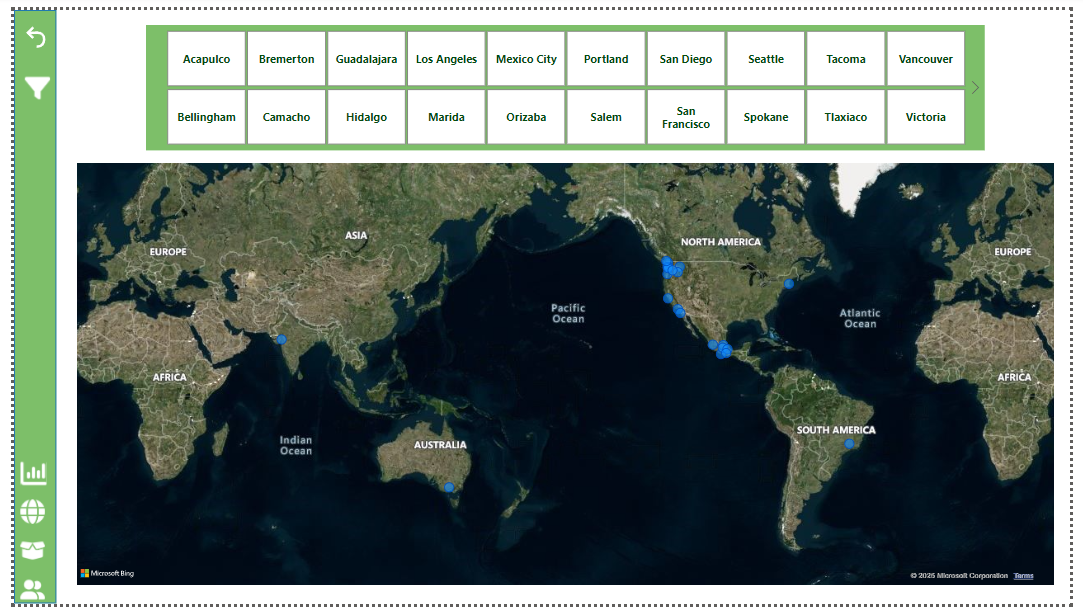

The dashboard page shown, as its layout file describes it:
{"tool":"powerbi","page":{"name":"Map","canvas":[1280,720],"ordinal":1},"visuals":[{"type":"slicer","fields":{"Values":["Regions Lookup.sales_district"]},"box":[159.3,18.5,1016.7,151.9],"z":0},{"type":"actionButton","box":[3.3,541.7,48.3,40],"z":0,"group":"g1"},{"type":"map","fields":{"Category":["Regions Lookup.sales_district"]},"box":[70.4,179.6,1194.4,522.2],"z":1000},{"type":"actionButton","box":[4.1,589.1,45.6,37.8],"z":1000,"group":"g1"},{"type":"shape","box":[0,0,51.3,719.2],"z":2000},{"type":"actionButton","box":[4.1,636.9,45.6,37.8],"z":2000,"group":"g1"},{"type":"group","id":"g1","title":"Navigation Buttons","box":[3.3,541.7,48.3,178.3],"z":3000},{"type":"actionButton","box":[4.1,683.6,45.6,37.8],"z":3000,"group":"g1"},{"type":"actionButton","box":[9.3,74.1,38.9,40.7],"z":4000},{"type":"actionButton","box":[9.3,14.8,35.2,37],"z":5000}]}

Visuals, with their boxes on the page's 1280x720 design canvas (x1, y1, x2, y2). These are canvas units, not pixel positions in the 1083x611 screenshot, which may show the page scaled, cropped or inside an application window:
slicer - Regions Lookup.sales_district: (159,18,1176,170)
actionButton: (3,542,52,582)
map - Regions Lookup.sales_district: (70,180,1265,702)
actionButton: (4,589,50,627)
shape: (0,0,51,719)
actionButton: (4,637,50,675)
"Navigation Buttons" group: (3,542,52,720)
actionButton: (4,684,50,721)
actionButton: (9,74,48,115)
actionButton: (9,15,44,52)
